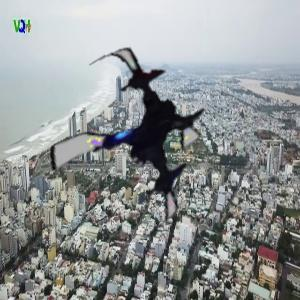drone: (34, 49, 225, 240)
